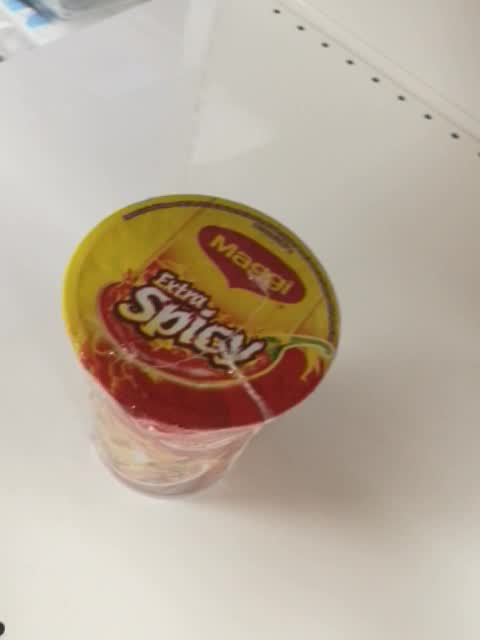maggi: (61, 192, 341, 499)
